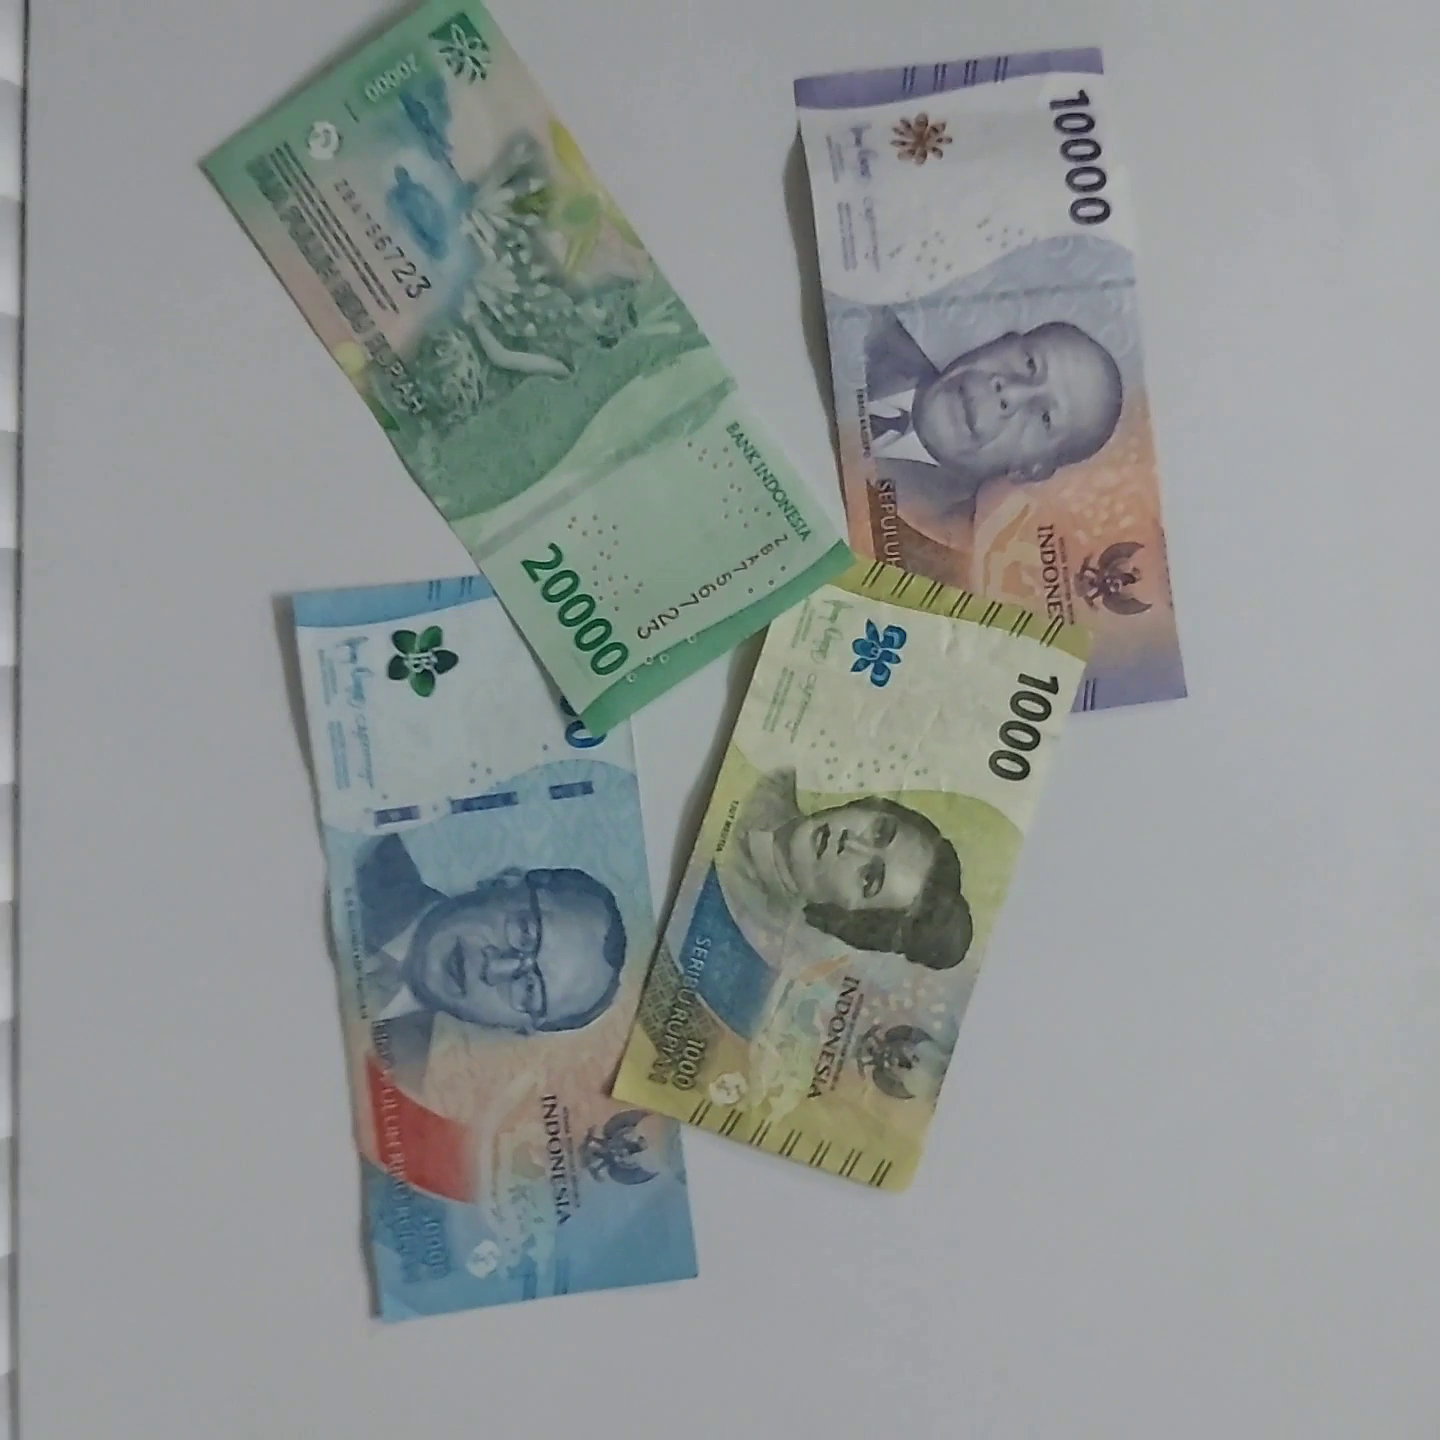10k: (749, 0, 1258, 742)
1k: (796, 521, 1154, 1129)
20k: (823, 580, 1110, 1273)
50k: (293, 579, 725, 1342)
